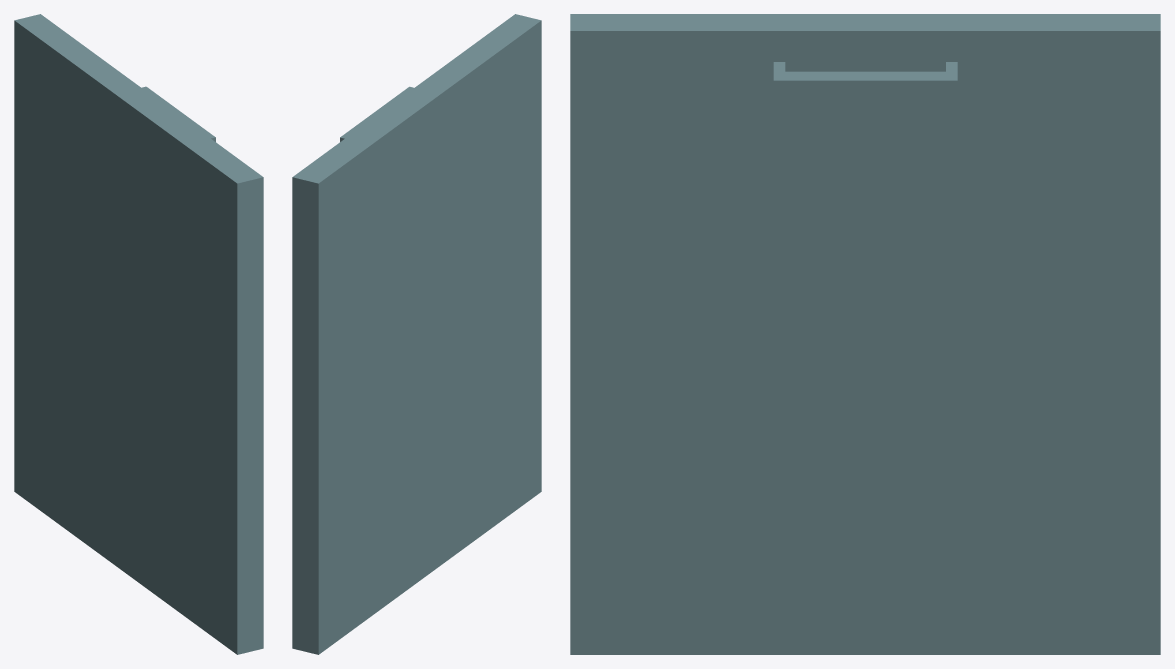
The model's file is Cabinet_Big_Door.002.fbx.
The picture shows the model from 3 angles, left to right: view 1: azimuth 30°, elevation 25°; view 2: azimuth 150°, elevation 25°; view 3: azimuth 270°, elevation 25°; orthographic projection. The views are drawn at different scales.
Parts seen in each view (by area): view 1: Cabinet_Big_Door.002; view 2: Cabinet_Big_Door.002; view 3: Cabinet_Big_Door.002.
Boxes of the visible parts, x1,y1,x2,y2 form: Cabinet_Big_Door.002: (14,14,263,654); Cabinet_Big_Door.002: (292,14,541,654); Cabinet_Big_Door.002: (570,14,1160,654).
Size of the model in its own units: 7.26 by 59.13 by 50.7.
